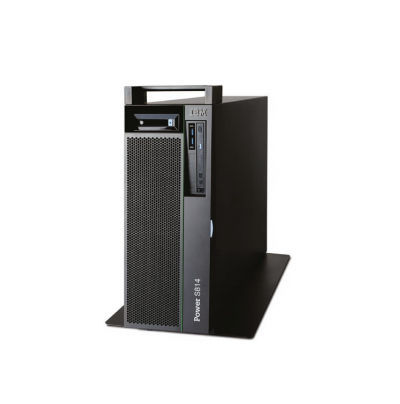ibm-server: (98, 78, 296, 343)
